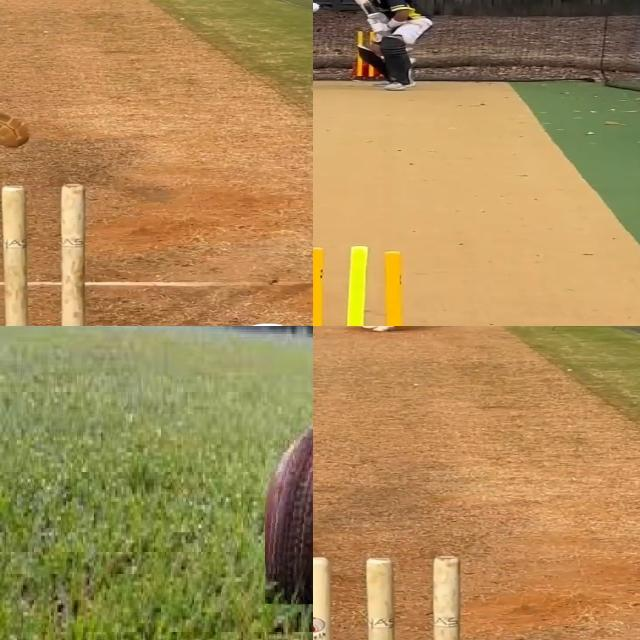Cricket ball: (264, 412, 313, 604), (313, 0, 323, 13)
Stumps: (313, 554, 465, 640), (313, 242, 422, 326)
